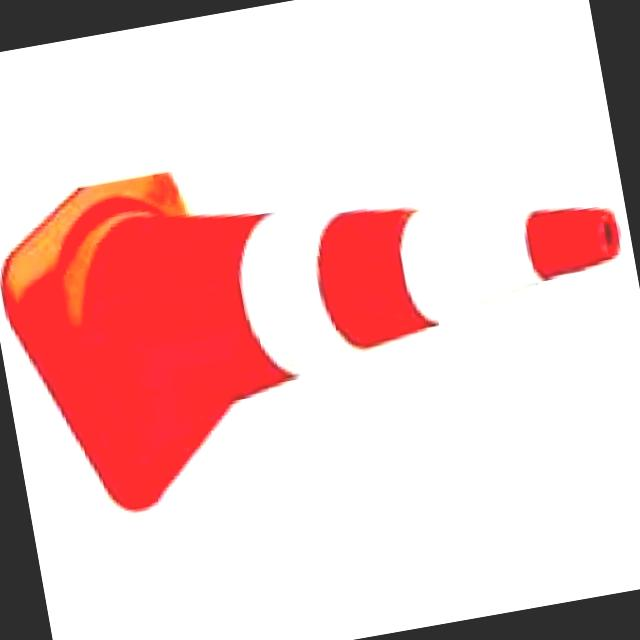cone: (0, 96, 640, 532)
